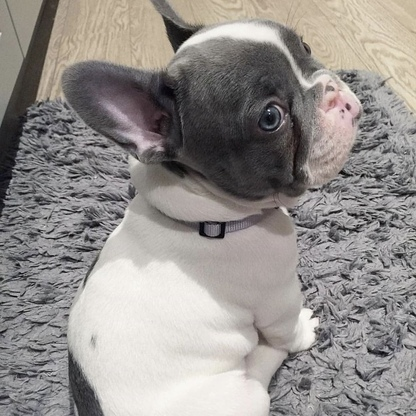bulldog: (63, 4, 368, 416)
